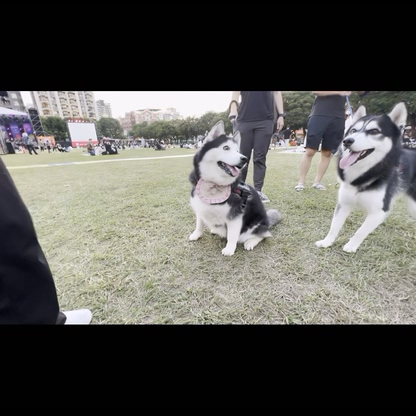husky: (313, 100, 416, 255), (183, 118, 288, 259)
